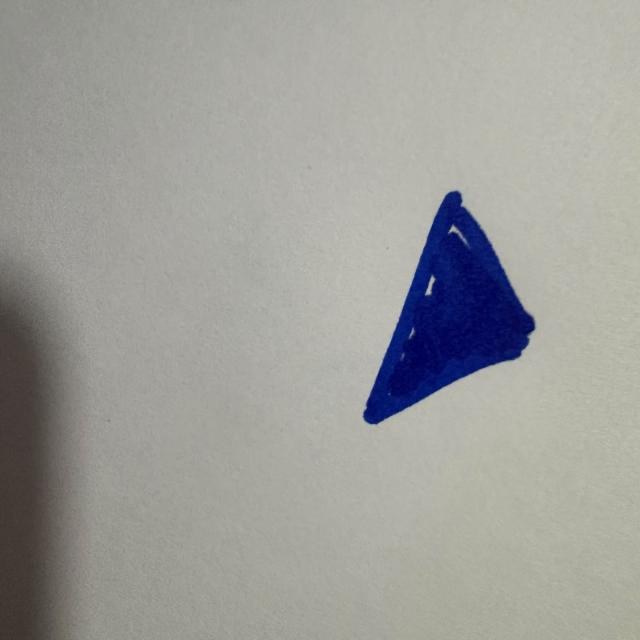Triangle: (363, 191, 534, 423)
